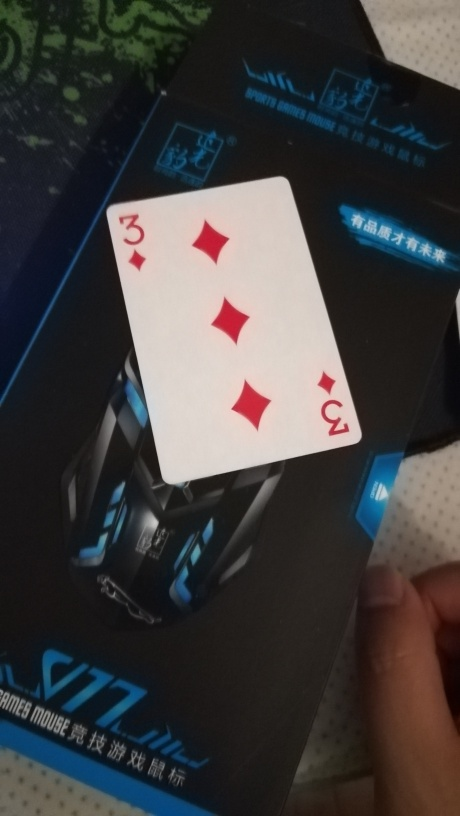fk 3: (102, 172, 363, 486)
